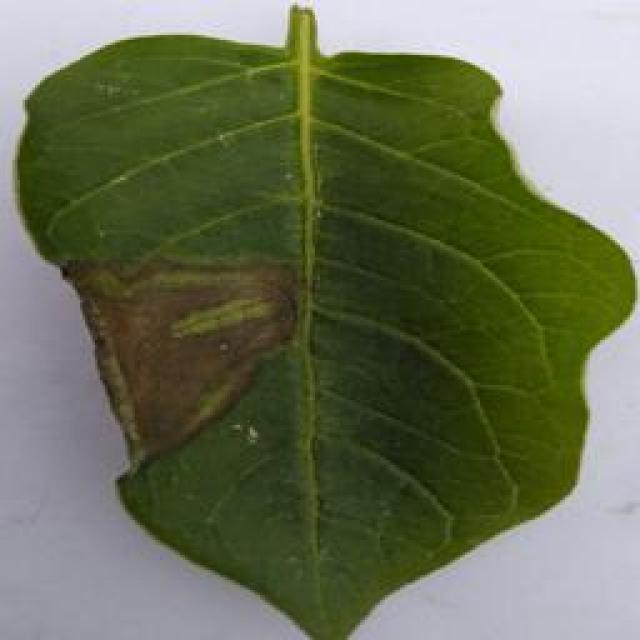Potato_Late_Blight: (23, 28, 608, 622)
